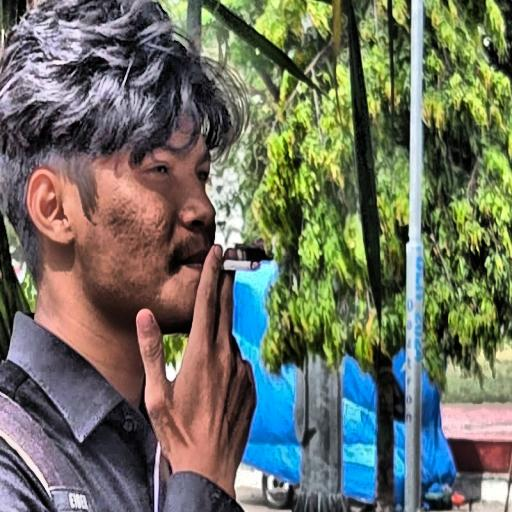Asbak: (223, 259, 259, 272)
Merokok: (27, 141, 262, 496)
